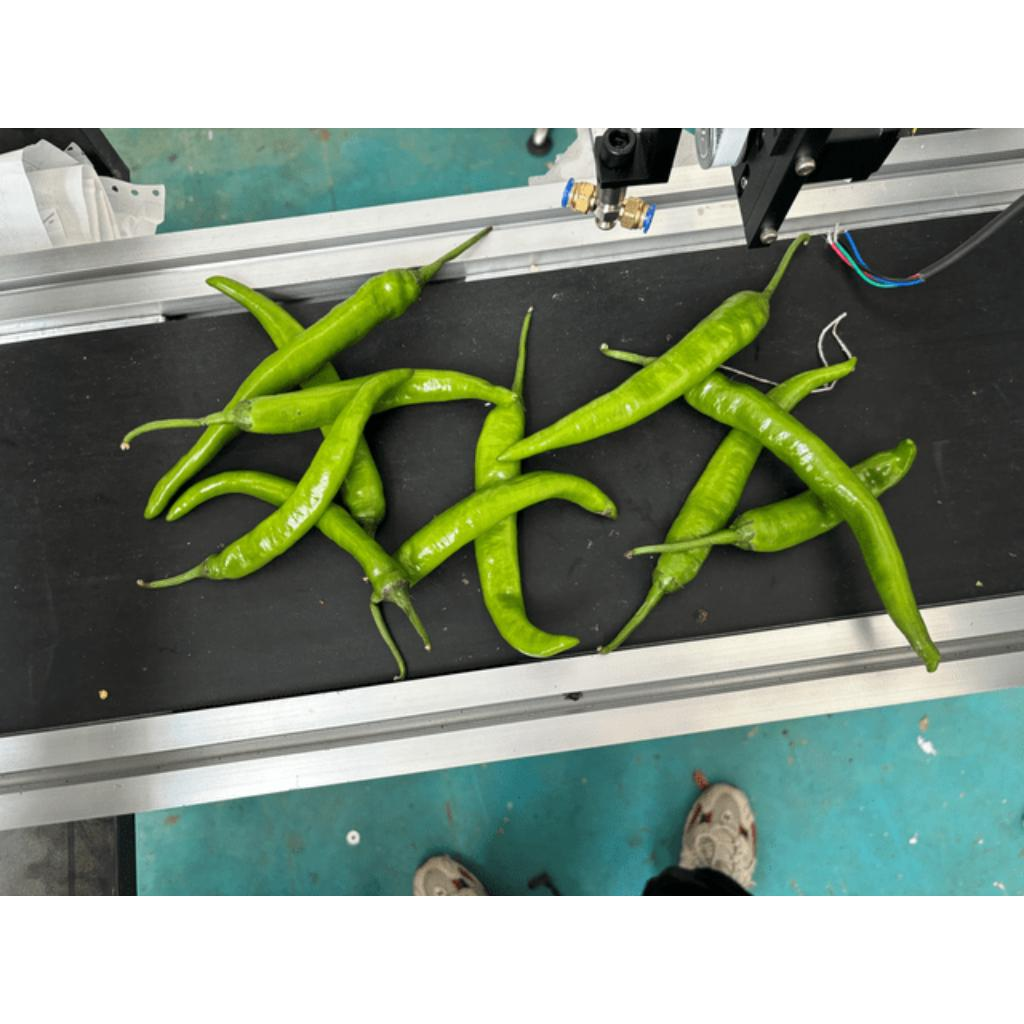chili: (647, 353, 942, 678), (140, 266, 426, 524), (645, 352, 859, 594), (492, 287, 775, 465), (196, 367, 418, 582), (200, 273, 387, 526), (161, 467, 414, 608), (368, 468, 622, 602), (473, 394, 587, 661), (728, 433, 918, 554), (230, 369, 521, 435)
